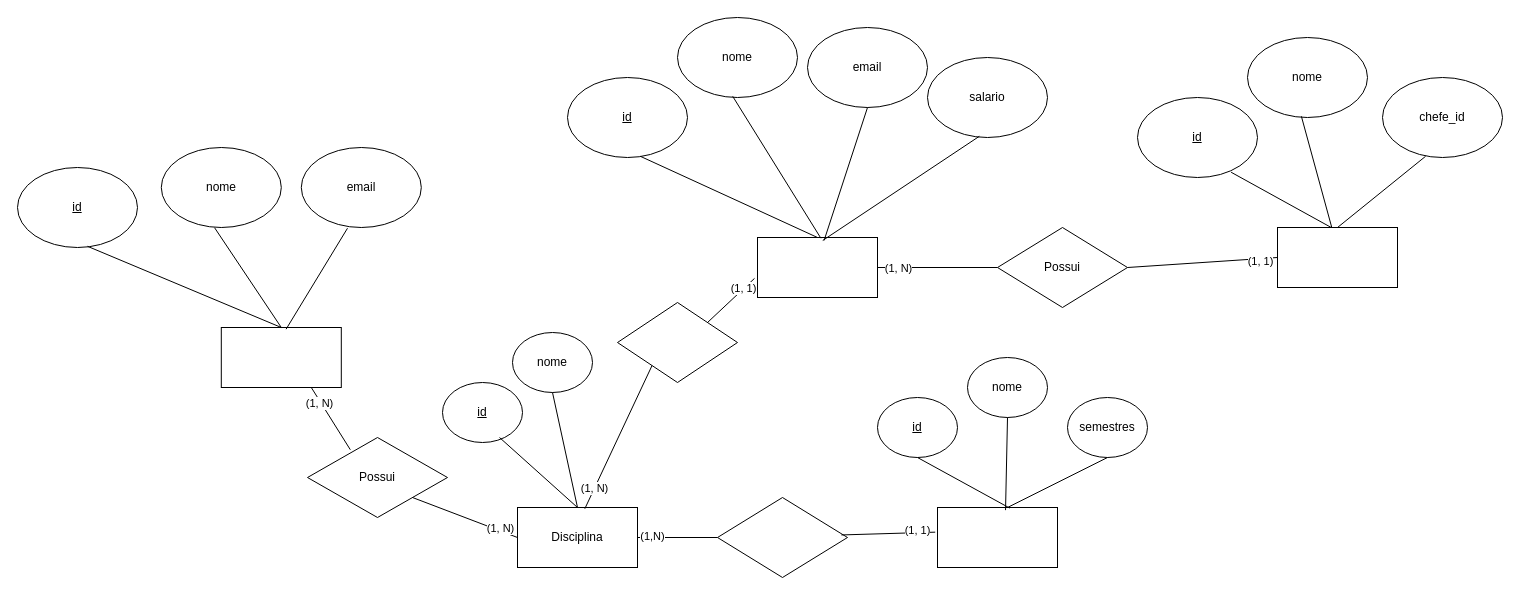
Image size: 1520x595. Some labels were removed from this diagram. Each missing label, with the box of its shape:
Aluno: (220, 326, 341, 388)
Curso: (936, 506, 1058, 568)
Departamento: (1276, 226, 1398, 288)
Ministra: (616, 302, 738, 382)
Pertence: (716, 496, 848, 578)
Professor: (756, 236, 878, 298)
